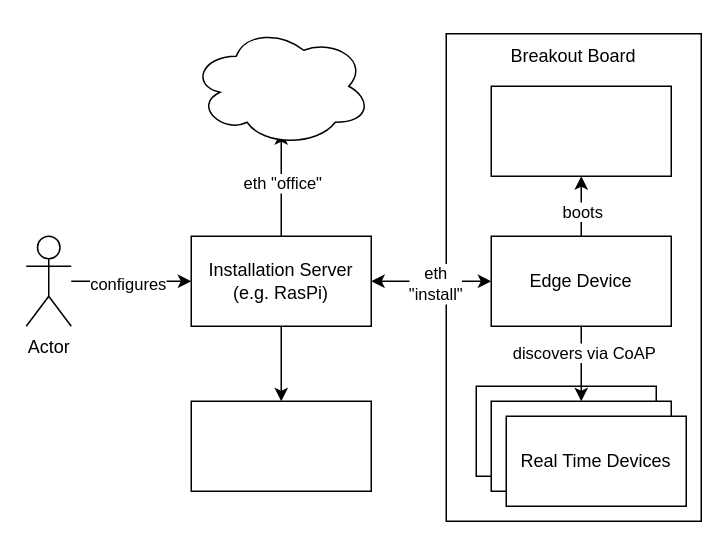
This 728x548 diagram has some shape labels left out. The shapes that lost their labels are listed below. From the top down, each one's centre as x and y in pixels, then its label:
At (280,85): "Intranet / Internet".
At (580,130): "SD Card with Installer Image".
At (280,445): "Archive of Images".
